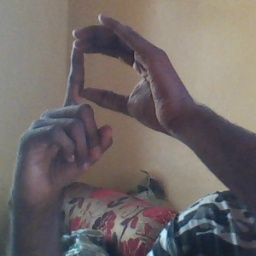P: (33, 12, 163, 160)
